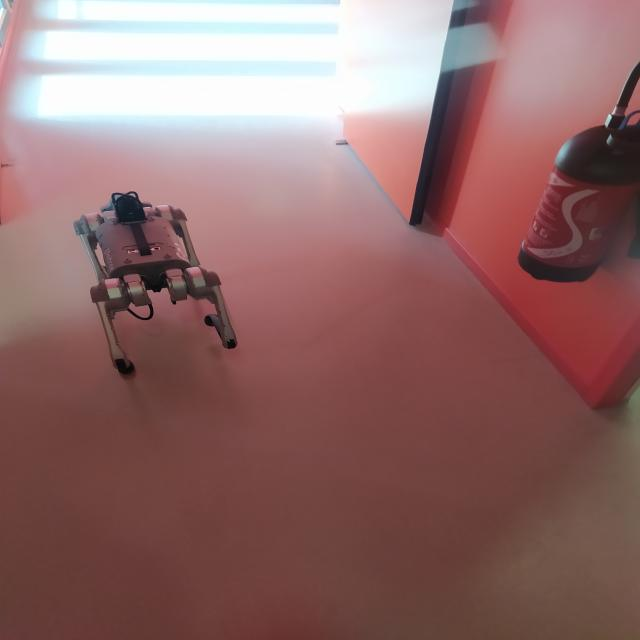unitree-go1-robot: (60, 177, 258, 392)
